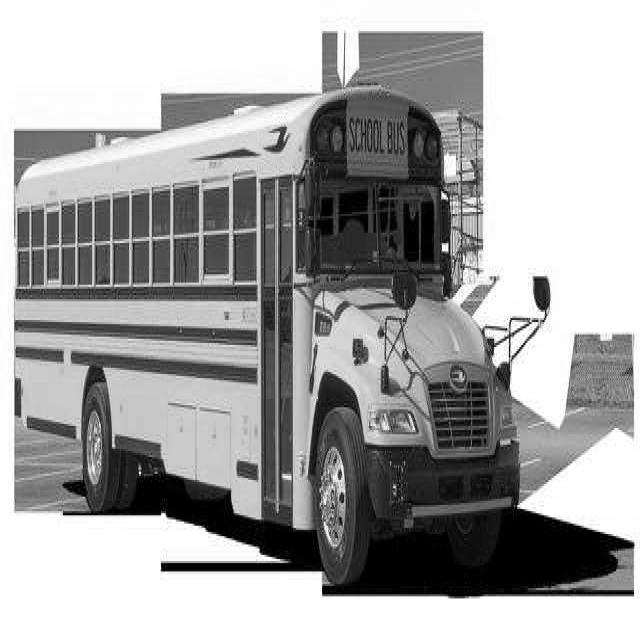Bus: (17, 93, 556, 590)
